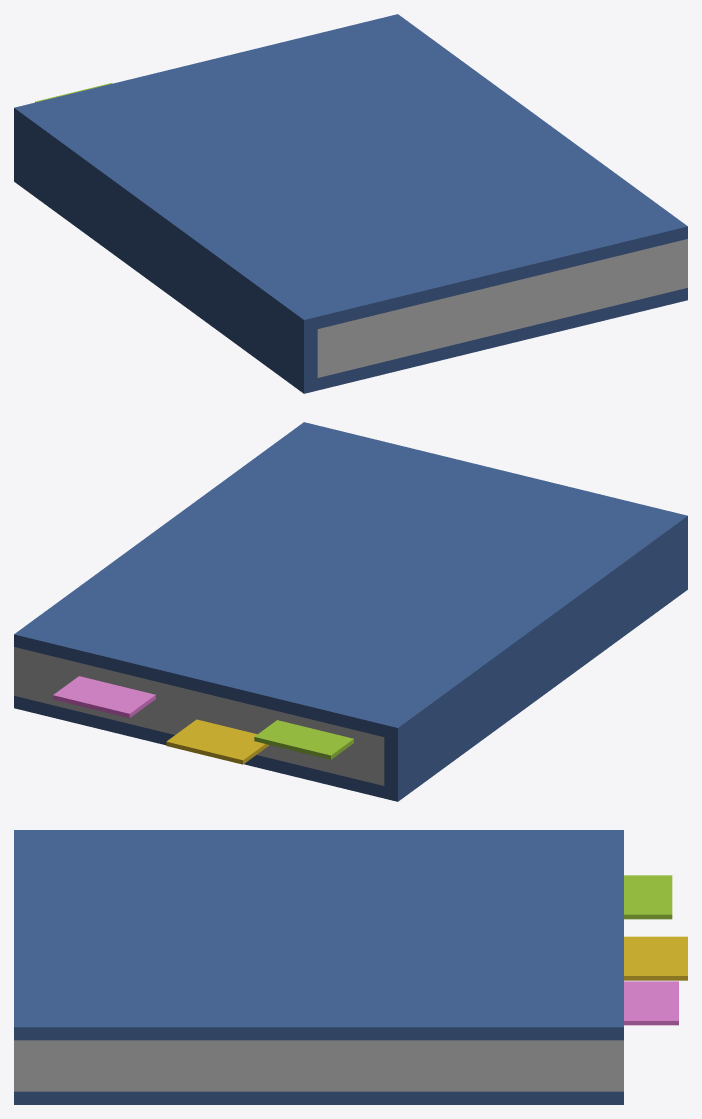
Rendered from Book1.FBX.
The picture shows the model from 3 angles, top to bottom: view 1: azimuth 30°, elevation 25°; view 2: azimuth 150°, elevation 25°; view 3: azimuth 270°, elevation 25°; orthographic projection. The views are drawn at different scales.
Visible parts, largest first — view 1: SM_Book_01; view 2: SM_Book_01; view 3: SM_Book_01.
Boxes of the visible parts, x1,y1,x2,y2 form: SM_Book_01: (14, 14, 687, 393); SM_Book_01: (14, 422, 687, 801); SM_Book_01: (14, 830, 687, 1104).
Size of the model in its own units: 20.35 by 3.74 by 29.42.
